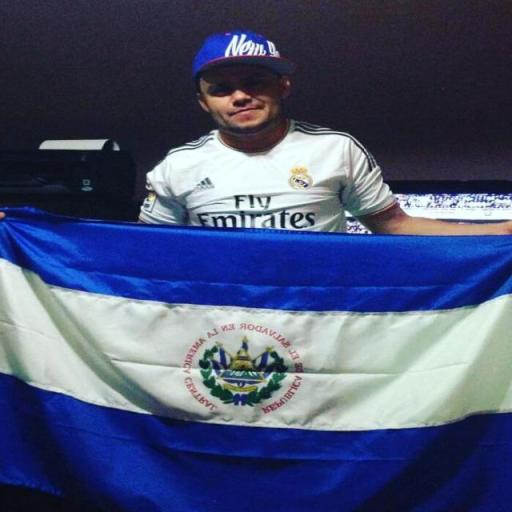Adidas: (190, 174, 217, 193)
Emirates: (194, 194, 320, 230)
